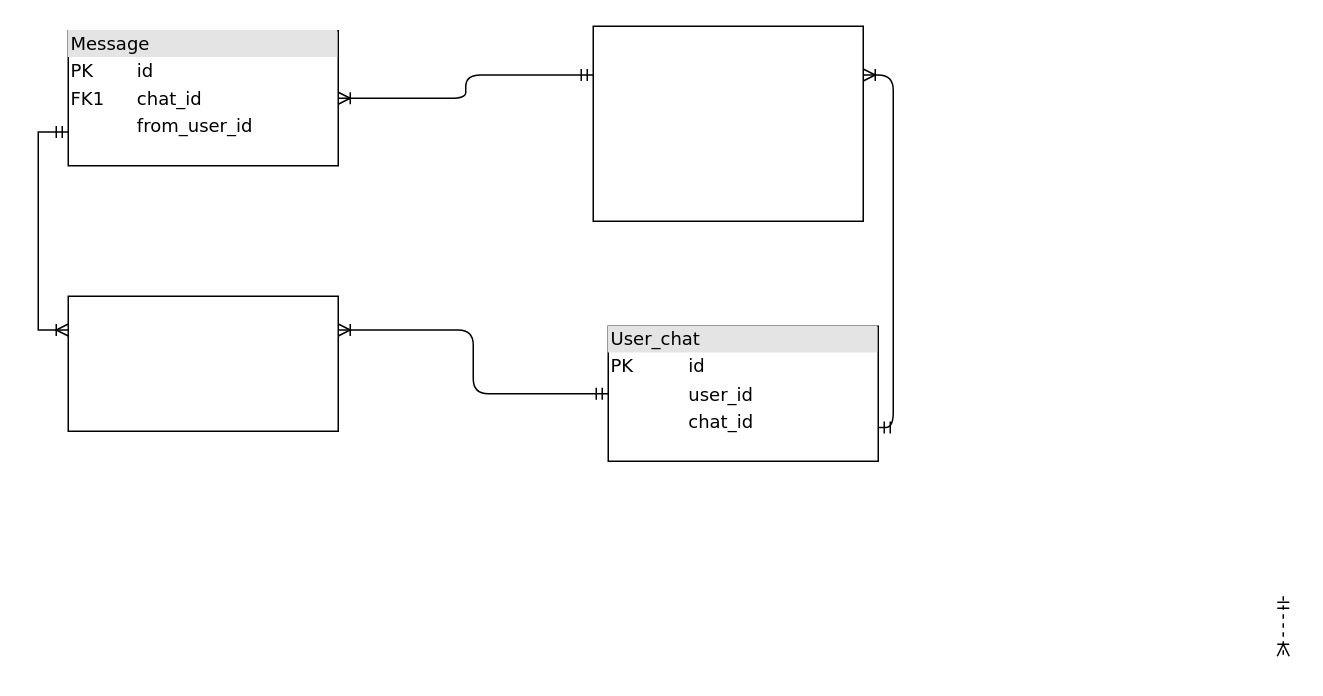
Image size: 1323x696. Some labels were removed from this diagram. The box of each missing label's shape, as (x1, y1, x2, y2) in pixels:
Chat PK id name: (592, 25, 863, 221)
User PK id name: (67, 295, 338, 431)
